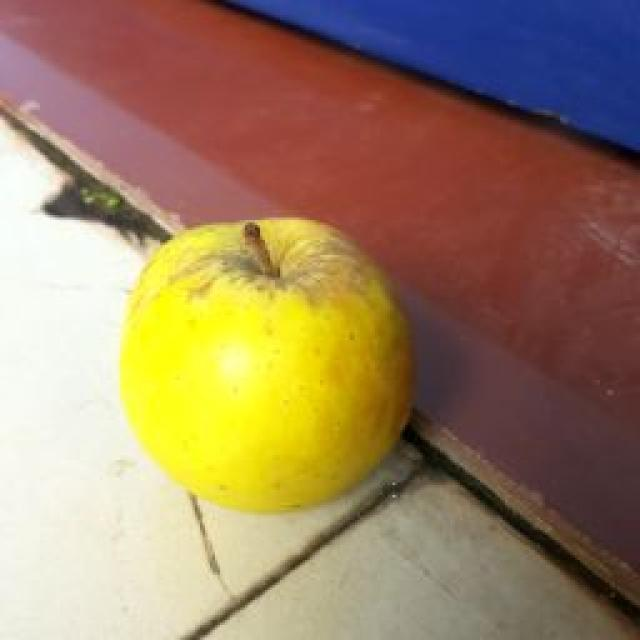Good_Apple: (120, 218, 411, 511)
